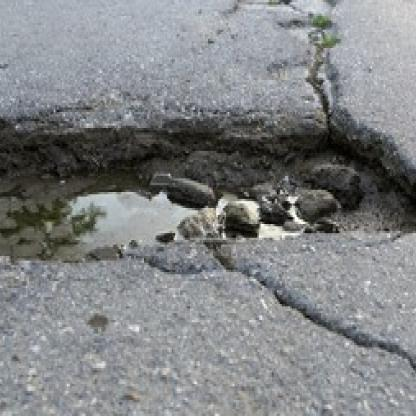pothole: (0, 93, 416, 265)
